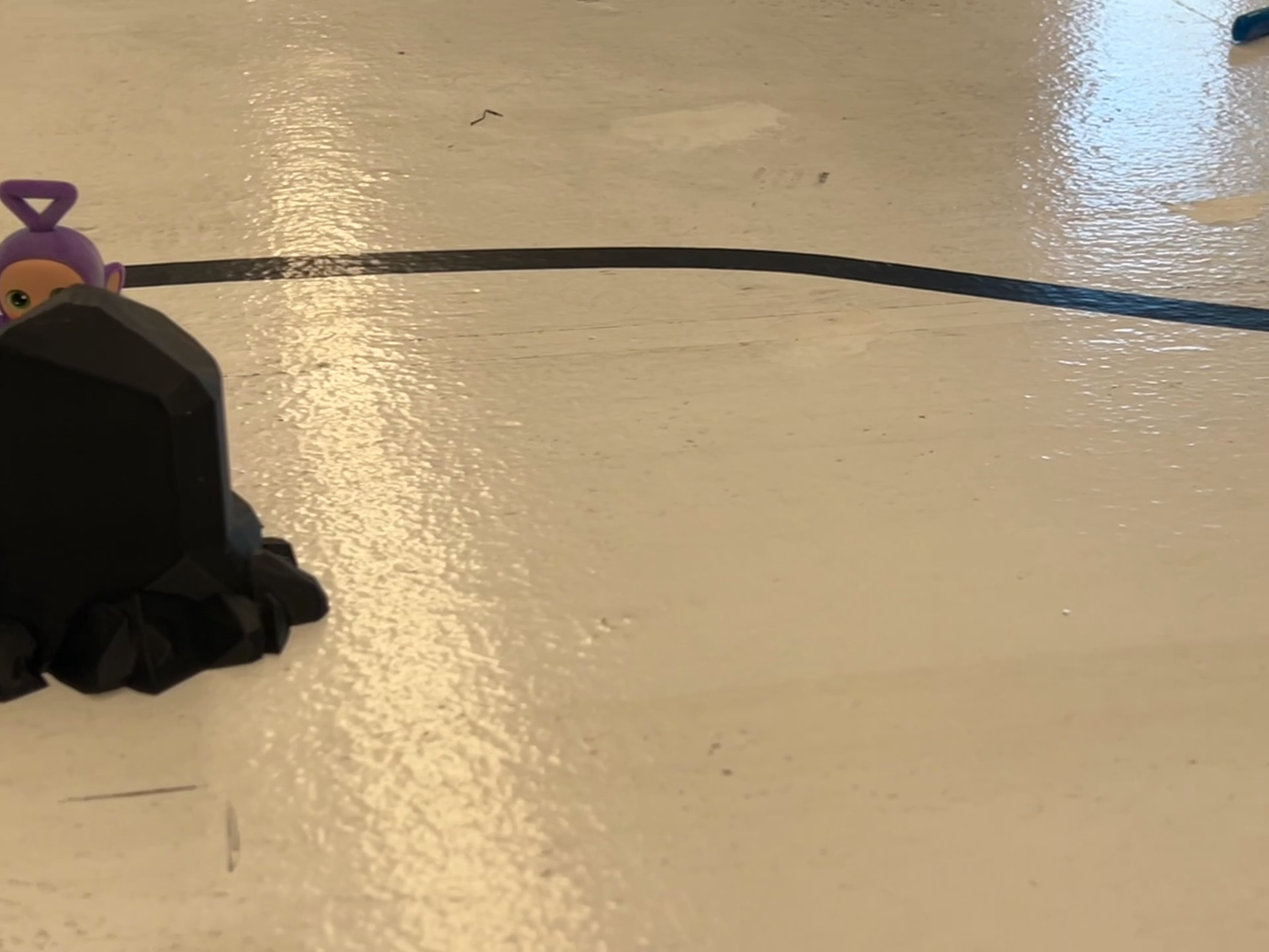teletubby: (0, 180, 126, 325), (0, 180, 125, 326)
